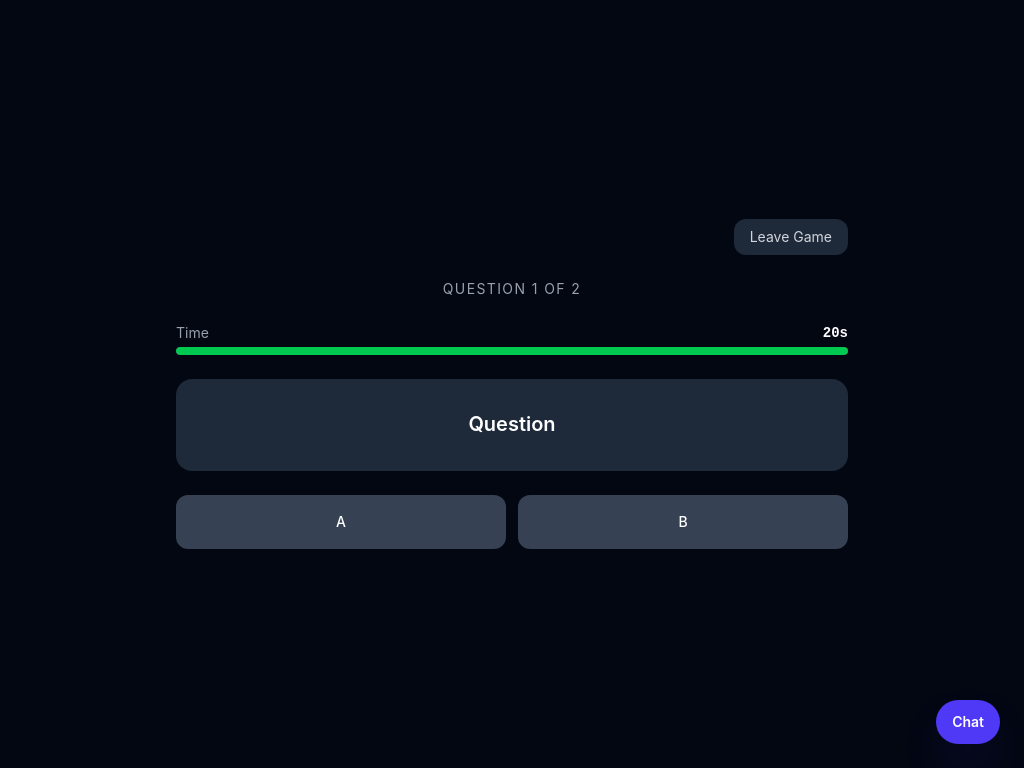
Test case: GameScreen gameplay states › opens and closes the chat drawer
Click the button "Chat": point(968, 722) x1=936 y1=700 x2=1000 y2=744
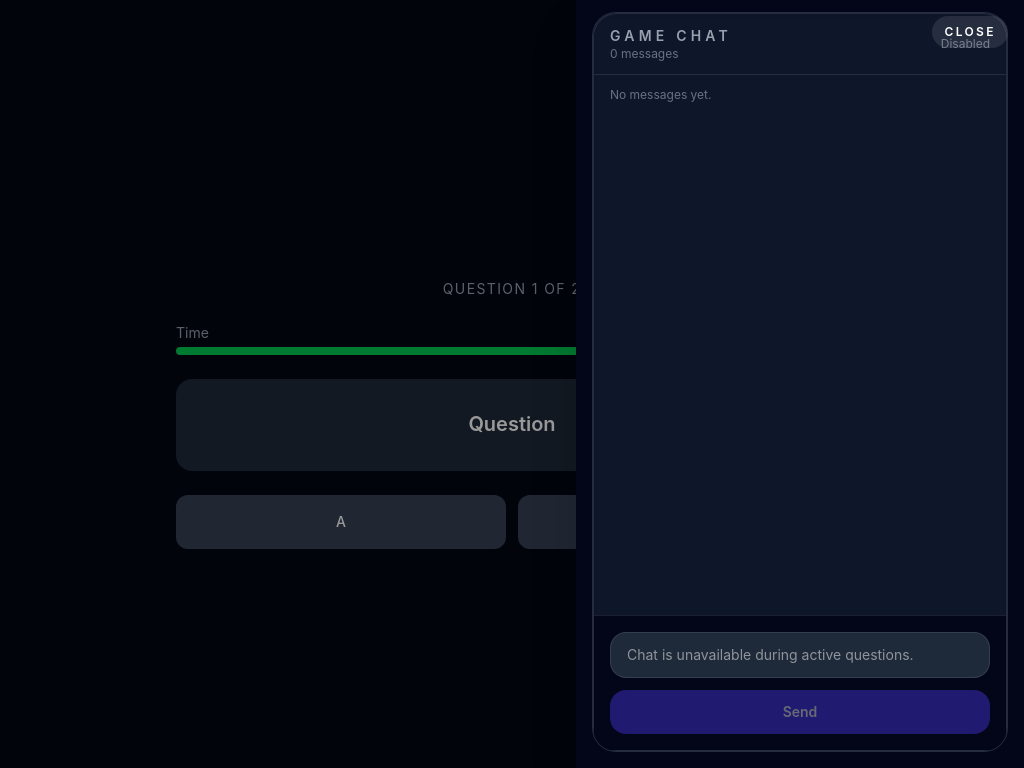
Now the button "Close" is shown
Click the button "Close": point(970, 32) x1=932 y1=16 x2=1008 y2=48
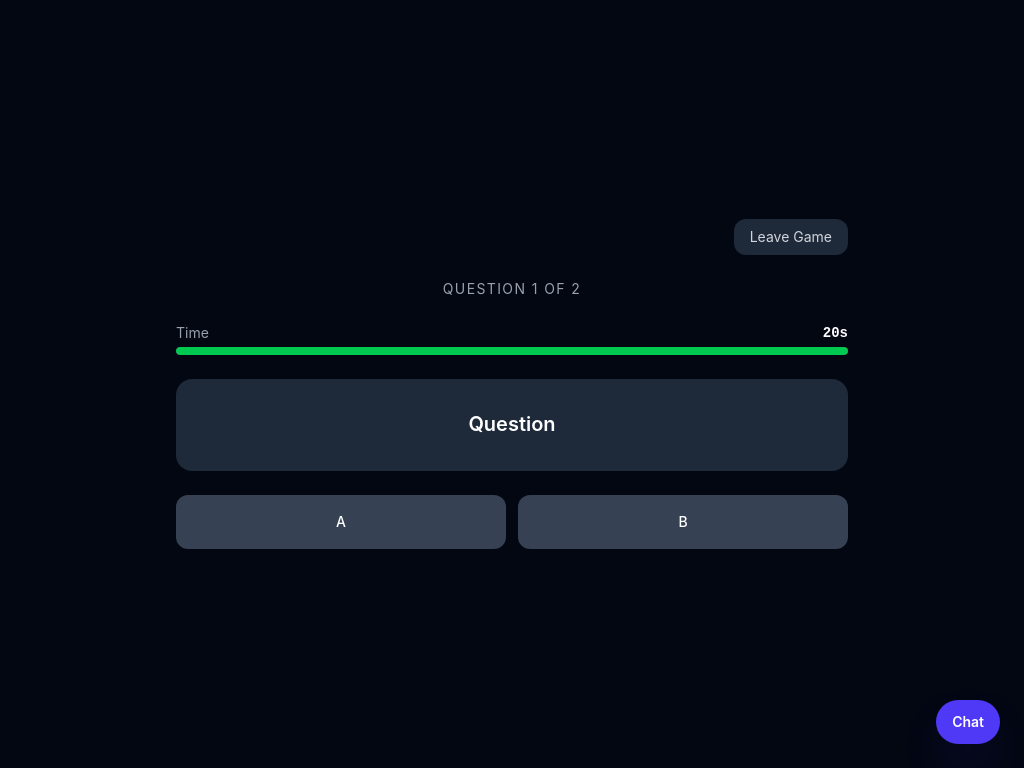
Now the button "Close" is gone
